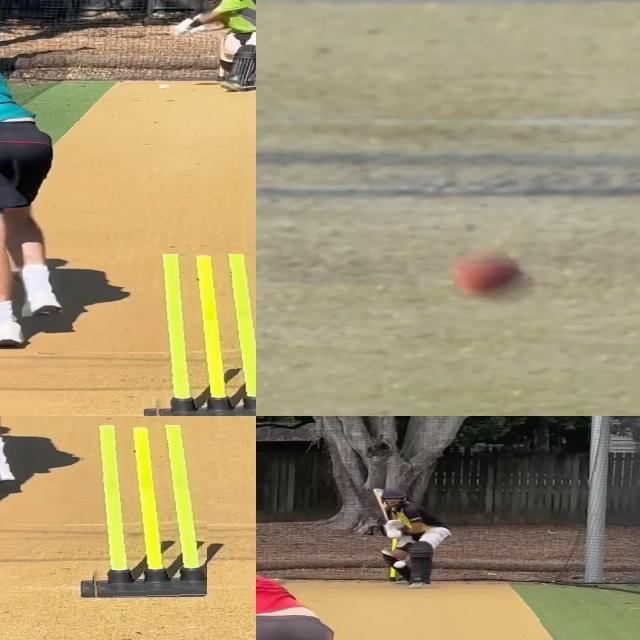Cricket ball: (454, 250, 532, 298), (393, 560, 408, 570), (158, 82, 171, 90)
Stumps: (79, 425, 207, 598), (140, 253, 256, 416)
